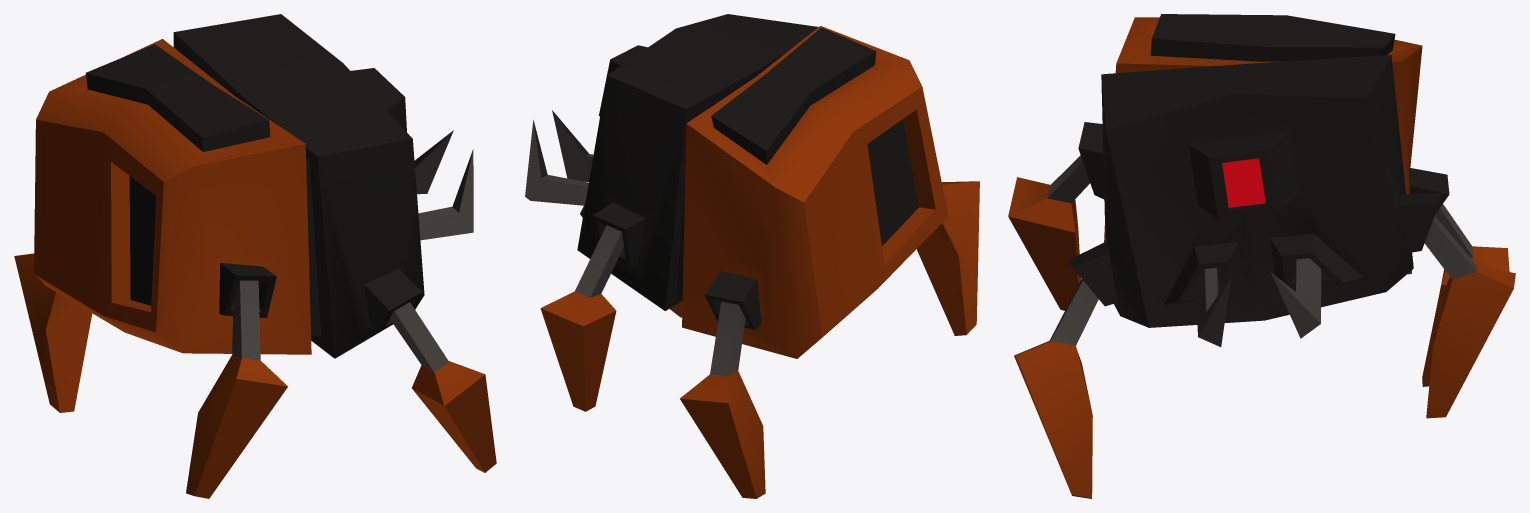
File: SPIDBOT4.obj
3 renders of one model, left to right at view 1: azimuth 30°, elevation 25°; view 2: azimuth 150°, elevation 25°; view 3: azimuth 270°, elevation 25°, orthographic. The views are drawn at different scales.
Visible parts, largest first — view 1: Cube.001; view 2: Cube.001; view 3: Cube.001.
Boxes of the visible parts, left/top/right/bottom form: Cube.001: left=14, top=14, right=496, bottom=498; Cube.001: left=525, top=14, right=979, bottom=498; Cube.001: left=1008, top=14, right=1515, bottom=498.
Size of what is drawn, in the model's own units: 2.88 by 2.81 by 3.42.
